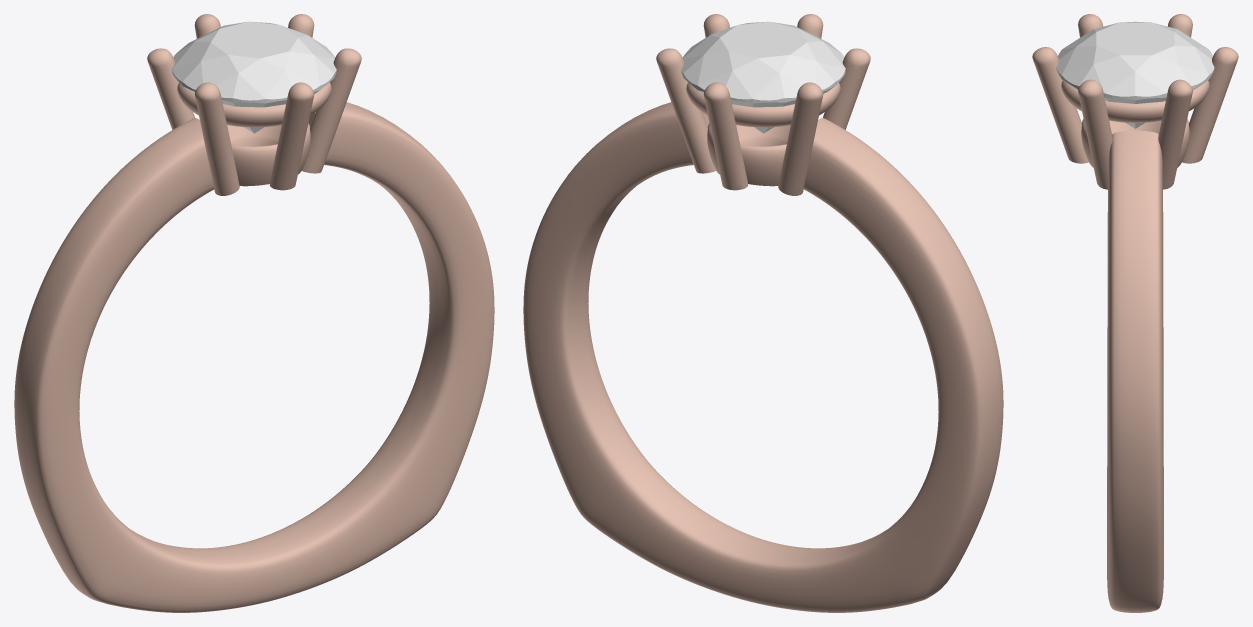
File: diamond-round-rosegold-6prong-europeanshank-nosidestones.glb
The picture shows the model from 3 angles, left to right: view 1: azimuth 30°, elevation 25°; view 2: azimuth 150°, elevation 25°; view 3: azimuth 270°, elevation 25°; orthographic projection. The views are drawn at different scales.
Parts seen in each view (by area): view 1: Round European 6Prongs, Roundstone; view 2: Round European 6Prongs, Roundstone; view 3: Round European 6Prongs, Roundstone.
Boxes of the visible parts, x1,y1,x2,y2 form: Round European 6Prongs: (14, 14, 494, 612); Roundstone: (172, 21, 336, 133); Round European 6Prongs: (523, 14, 1003, 612); Roundstone: (681, 21, 845, 133); Round European 6Prongs: (1032, 14, 1238, 612); Roundstone: (1056, 21, 1214, 128).
Size of the model in its own units: 20.71 by 23.81 by 8.33.
